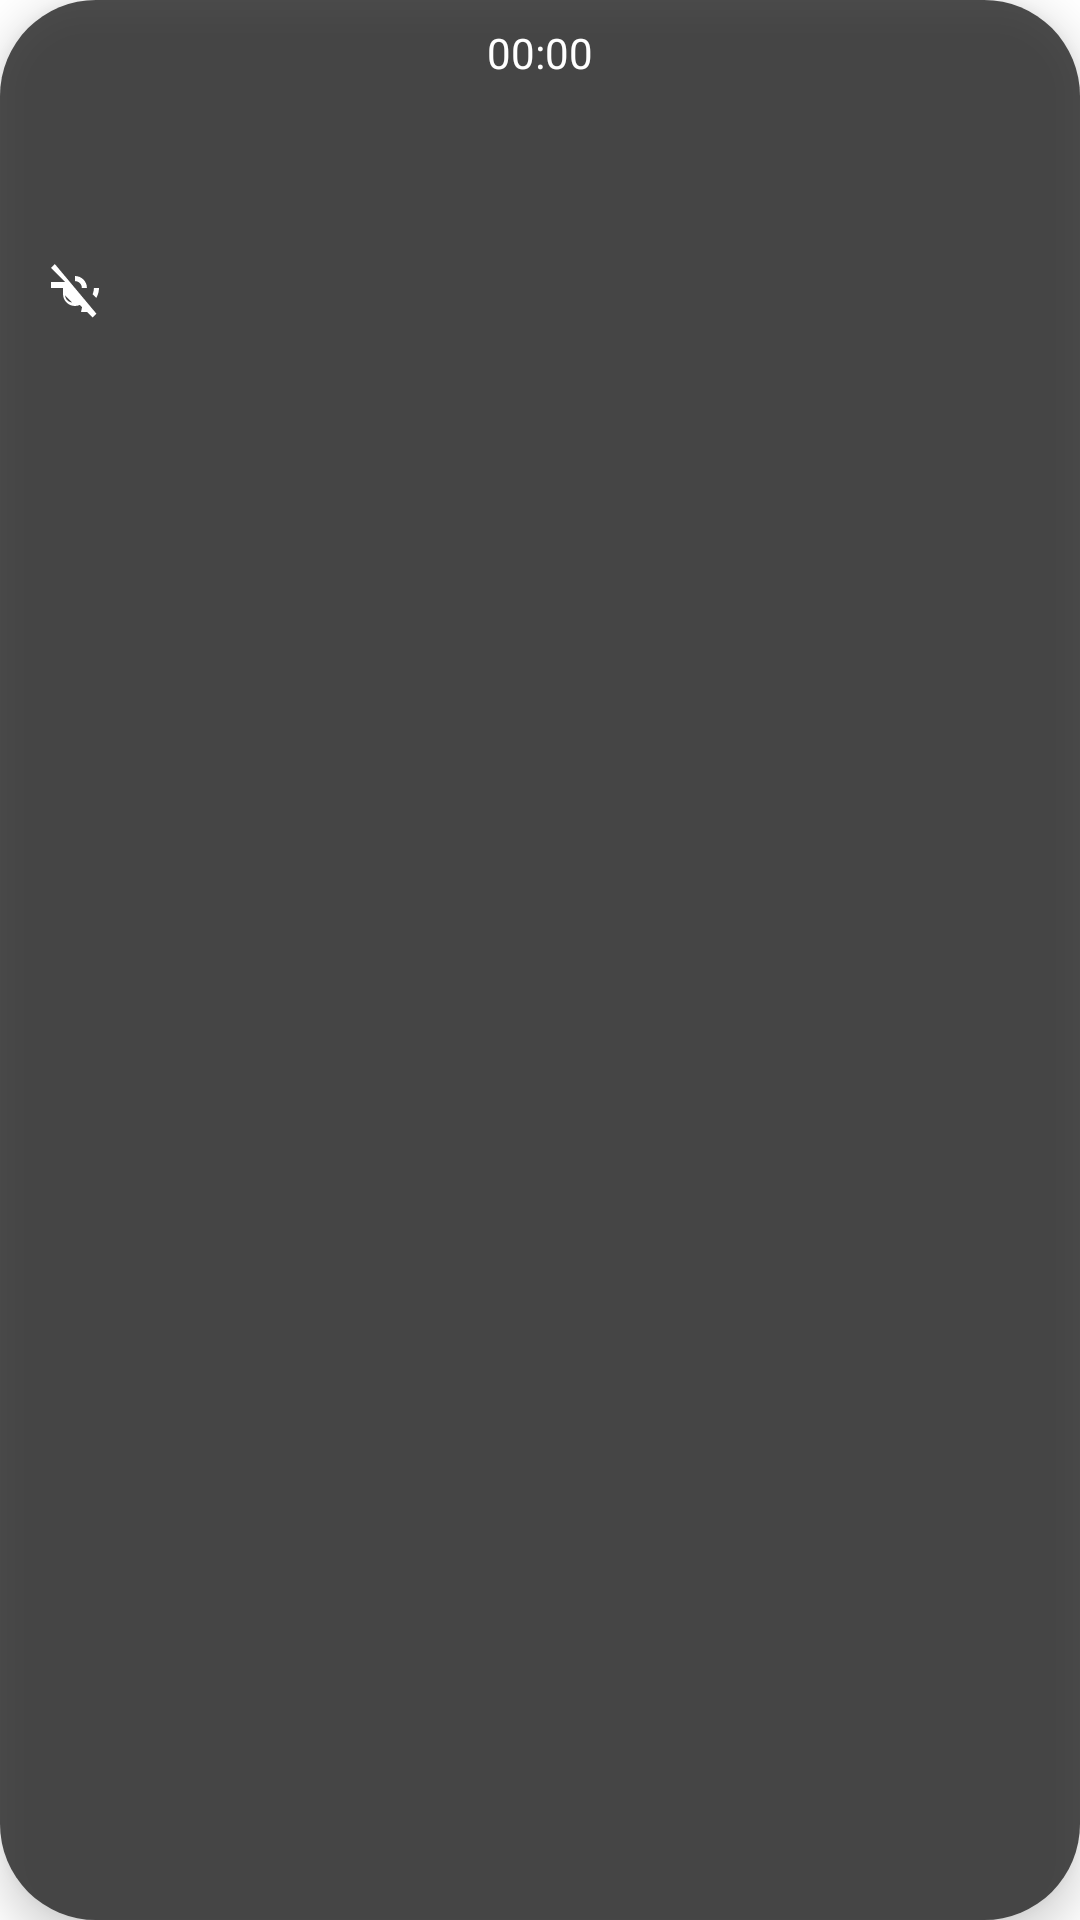

Named icons in this screenshot (1080 × 1920) and their centers, point (x, y):
静音: point (75, 291)
